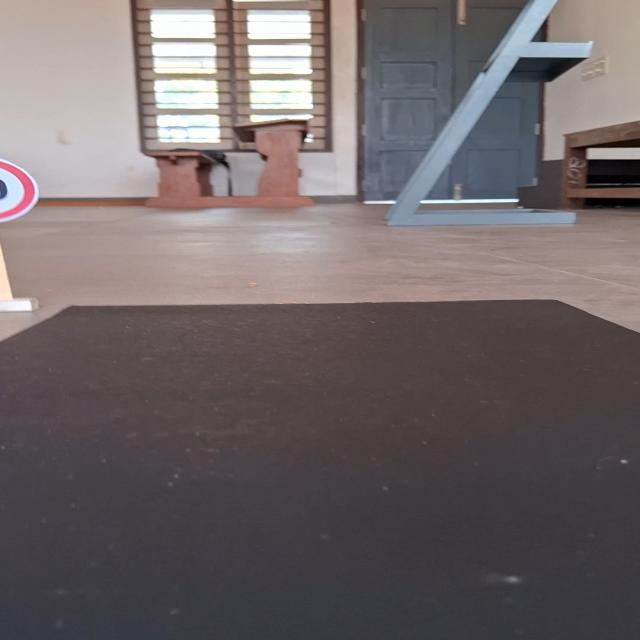Reject: (0, 157, 41, 226)
